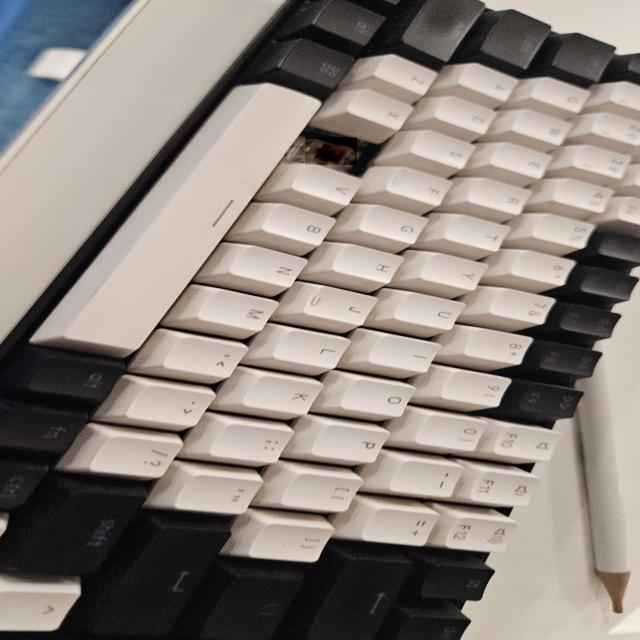C: (305, 137, 357, 165)
